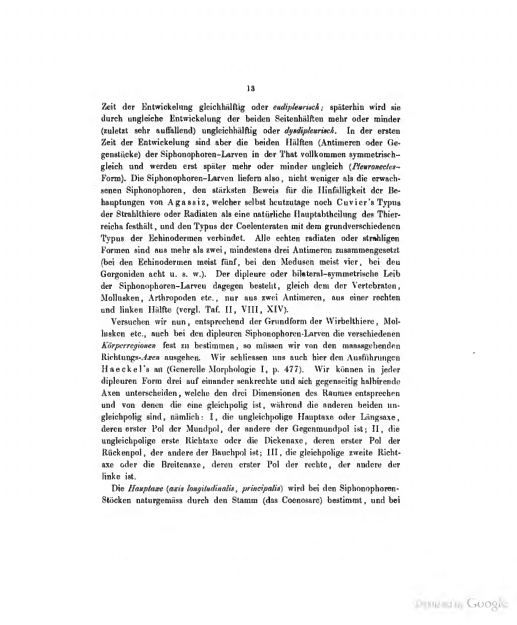MainZone: (91, 94, 412, 515)
NoiseZone: (406, 585, 517, 625)
NumberingZone_page: (241, 79, 264, 98)
